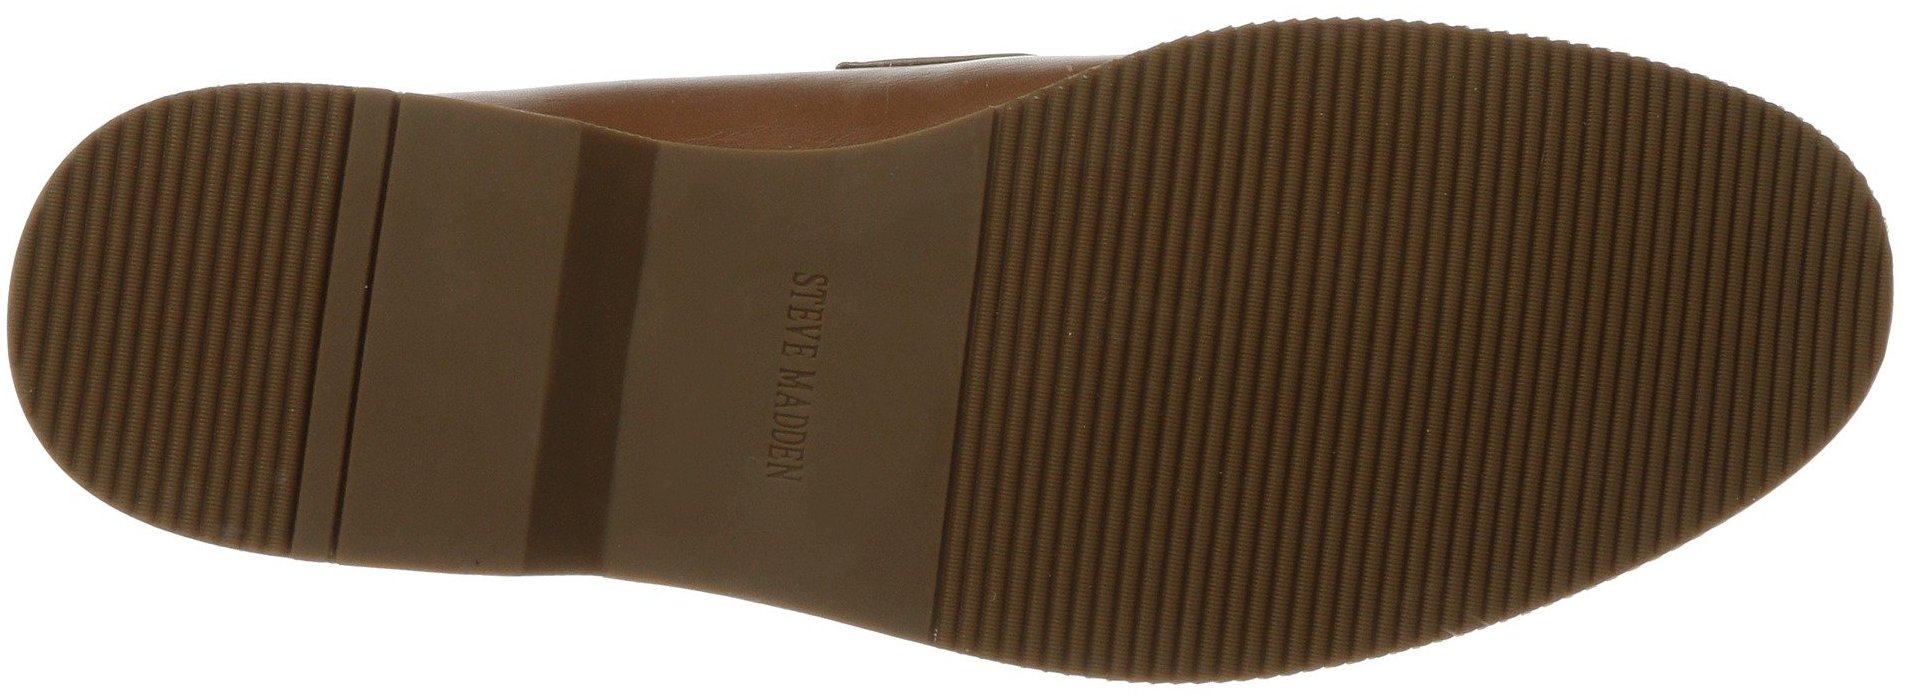line: (1149, 132, 1536, 564), (133, 166, 356, 405)
